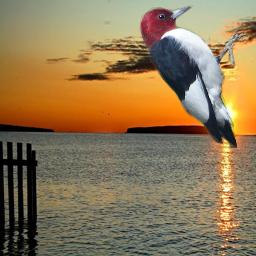Woodpecker: (139, 5, 248, 148)
